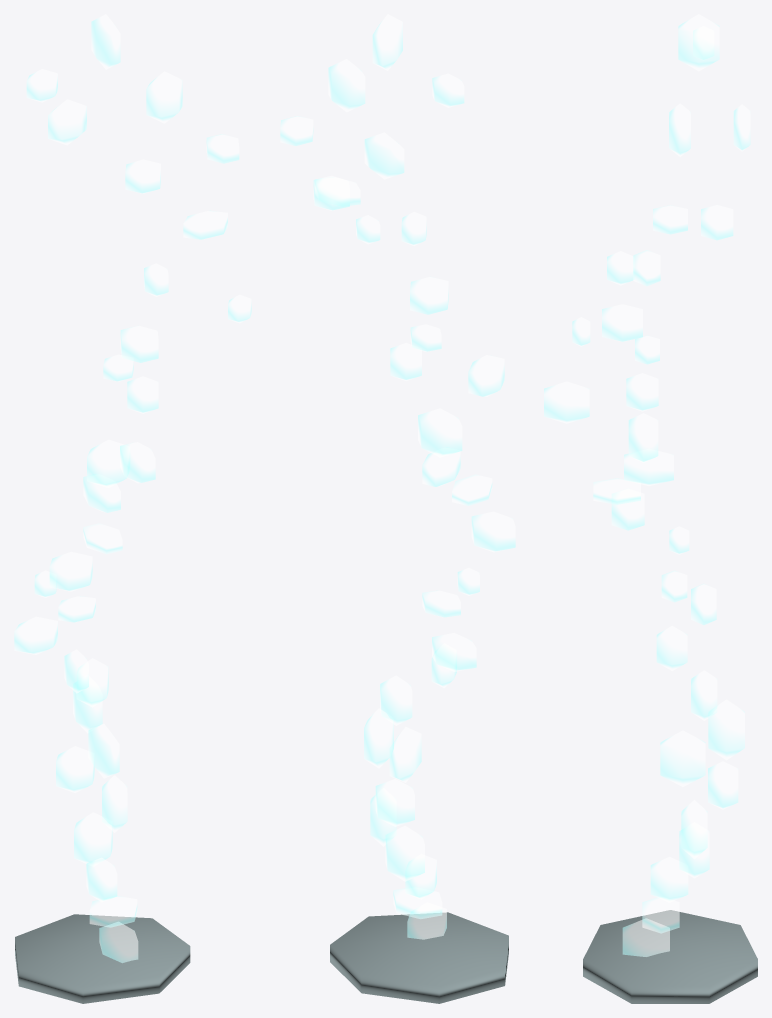
The model's file is sunken-city-and-underwater-ruins-bubble-column-557e5240.glb.
The picture shows the model from 3 angles, left to right: view 1: azimuth 30°, elevation 25°; view 2: azimuth 150°, elevation 25°; view 3: azimuth 270°, elevation 25°; orthographic projection. The views are drawn at different scales.
Visible parts, largest first — view 1: bubble-column; view 2: bubble-column; view 3: bubble-column.
Part boxes in pixels (x1,y1,x2,y2): bubble-column: [14, 14, 251, 1003]; bubble-column: [280, 14, 515, 1003]; bubble-column: [544, 14, 757, 1003].
Bounding box in the file's own units: 0.8056 × 3.32 × 0.6613.
